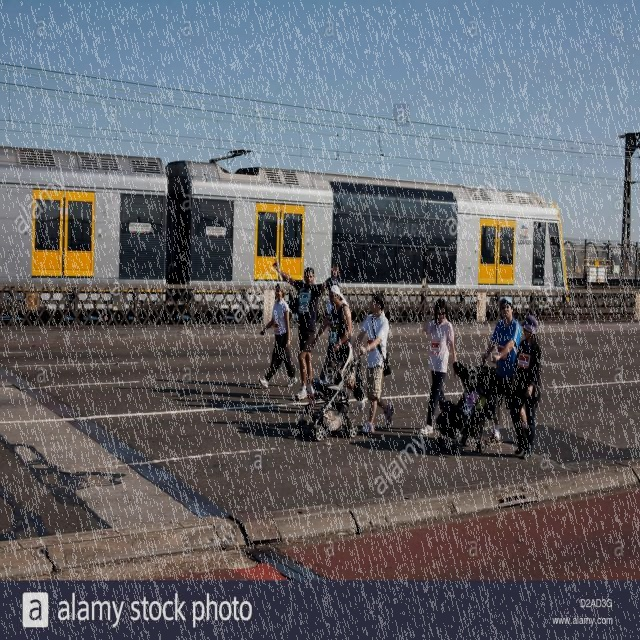pessoa: (272, 258, 340, 400), (479, 295, 529, 449), (308, 282, 366, 413), (117, 376, 306, 416), (348, 421, 516, 463), (350, 290, 396, 434), (507, 313, 546, 462), (418, 298, 458, 437), (256, 281, 298, 390), (204, 418, 349, 442), (311, 282, 353, 360), (454, 389, 480, 419), (318, 358, 337, 386)
